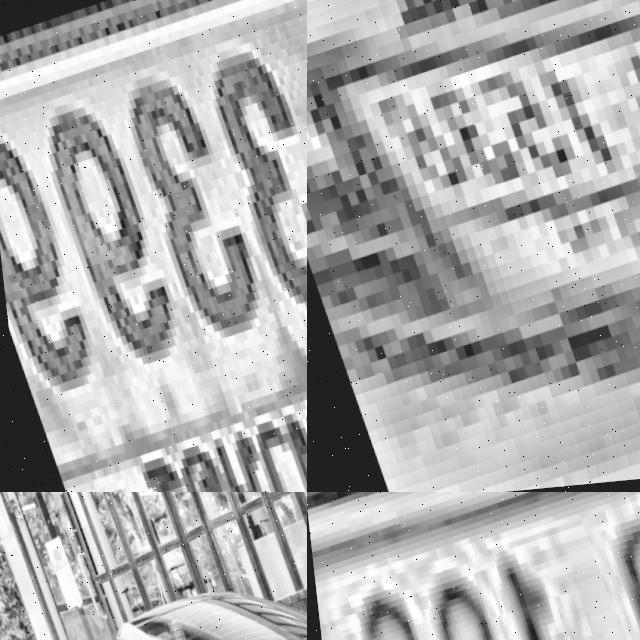license-plate: (307, 0, 640, 492), (0, 0, 307, 492), (307, 492, 640, 640)
